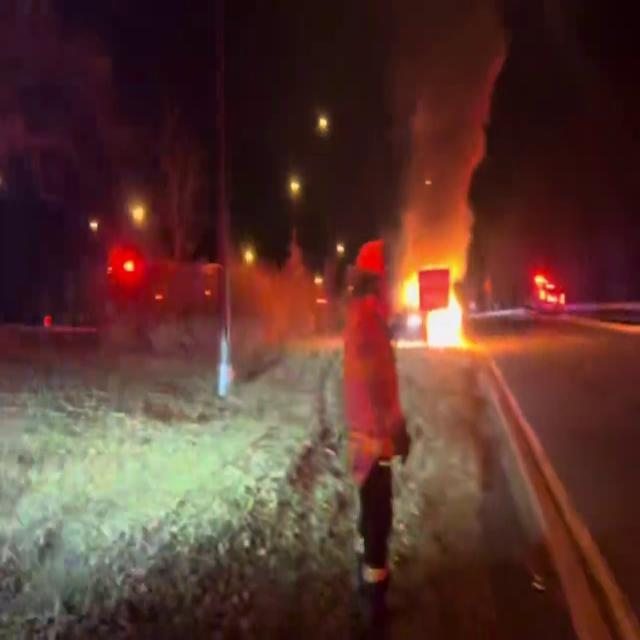Fire: (394, 248, 476, 350)
Smoke: (383, 1, 509, 244)
